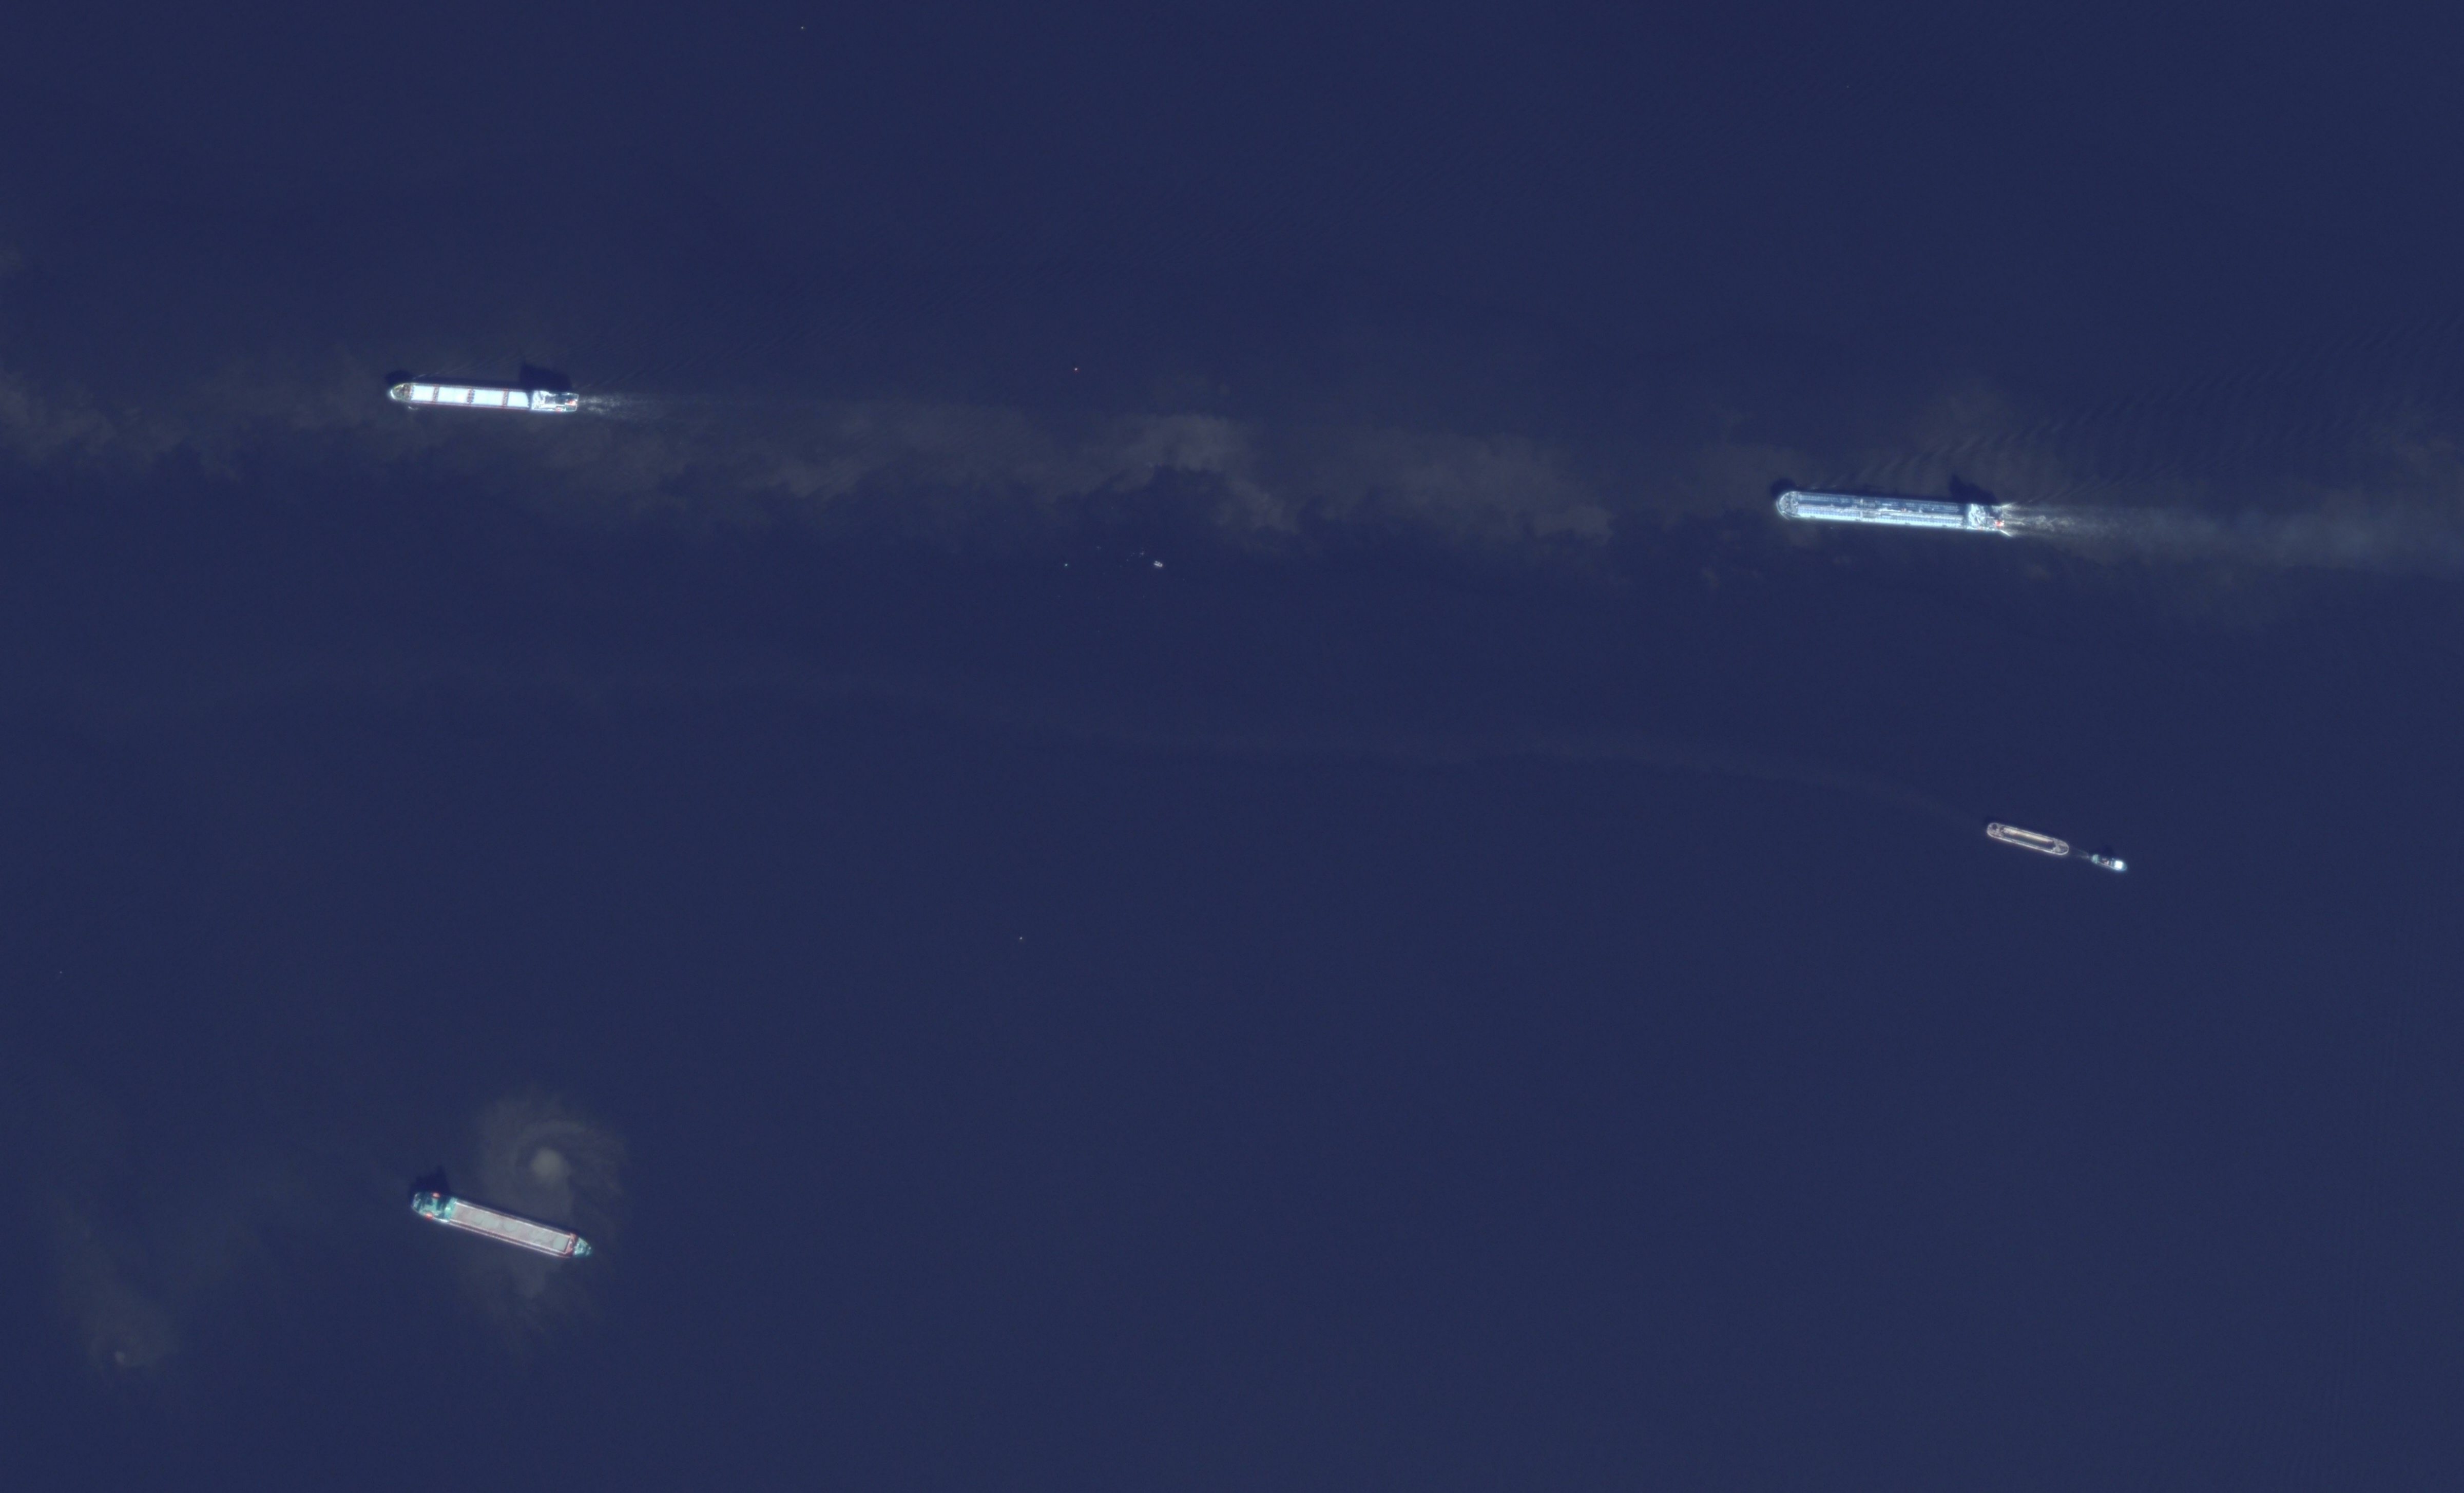boat: (408, 1190, 595, 1262), (1774, 489, 2012, 542), (385, 379, 581, 419), (1984, 822, 2070, 856), (2089, 852, 2130, 873), (1153, 560, 1165, 569)
